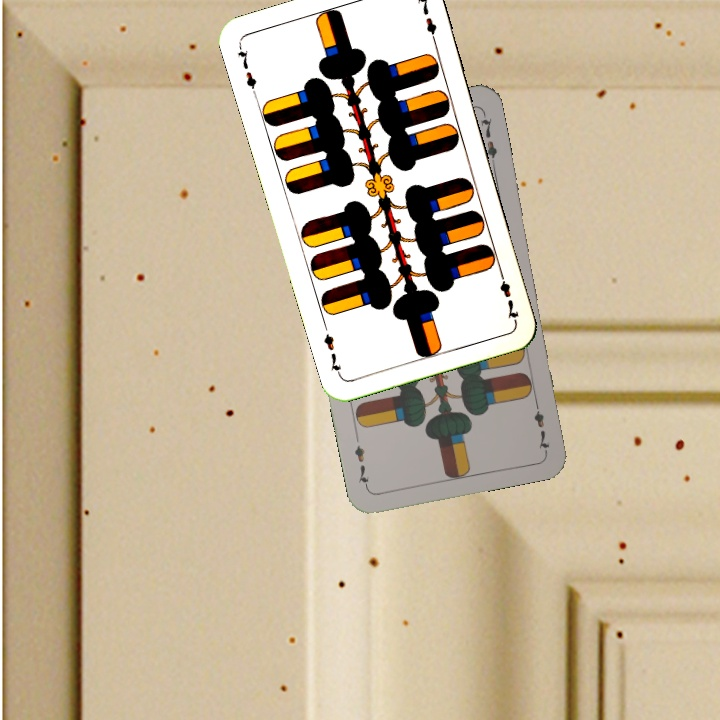E7: (495, 266, 522, 324), (234, 42, 260, 99), (529, 394, 552, 453)
